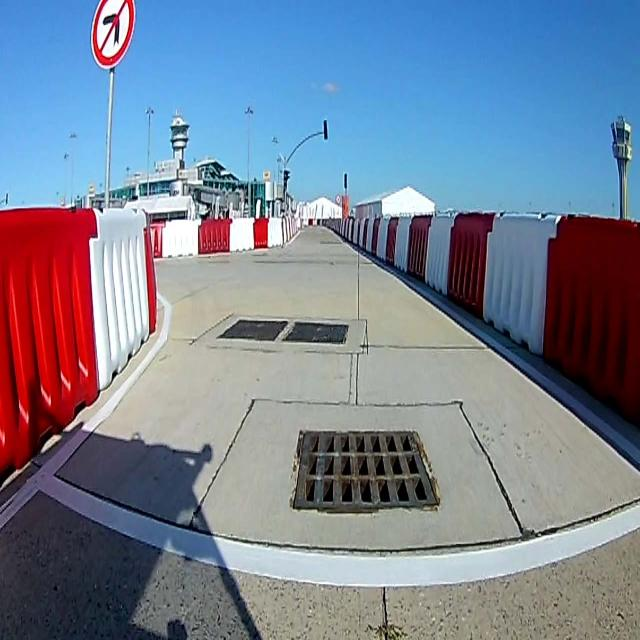soladonulmez: (92, 1, 134, 71)
